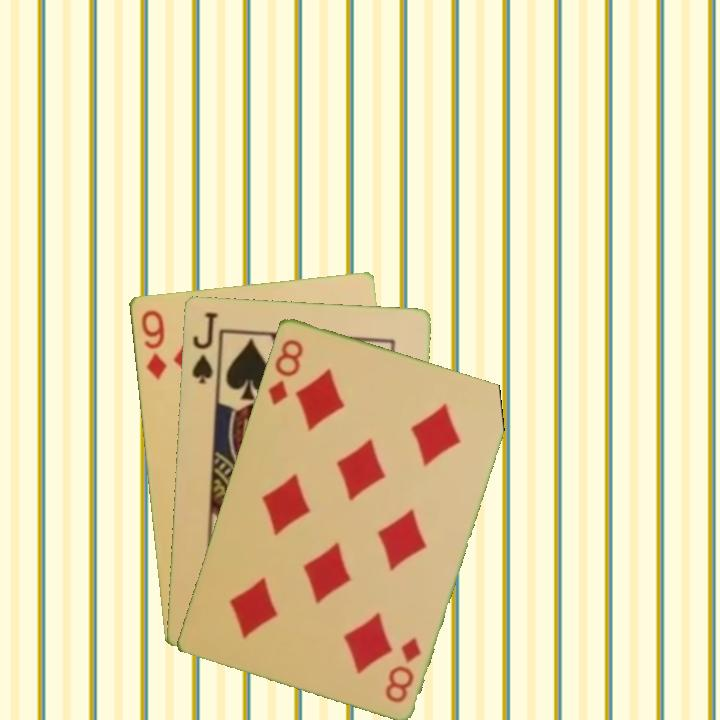8d: (381, 633, 424, 706), (264, 335, 306, 408)
9d: (137, 306, 170, 382)
Js: (188, 307, 220, 386)
